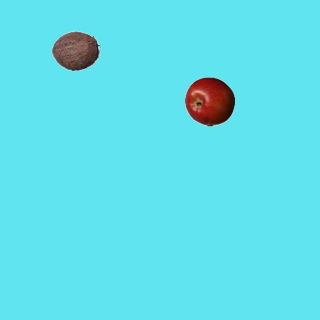Apple Braeburn: (184, 76, 234, 126)
Cocos: (50, 25, 100, 75)
